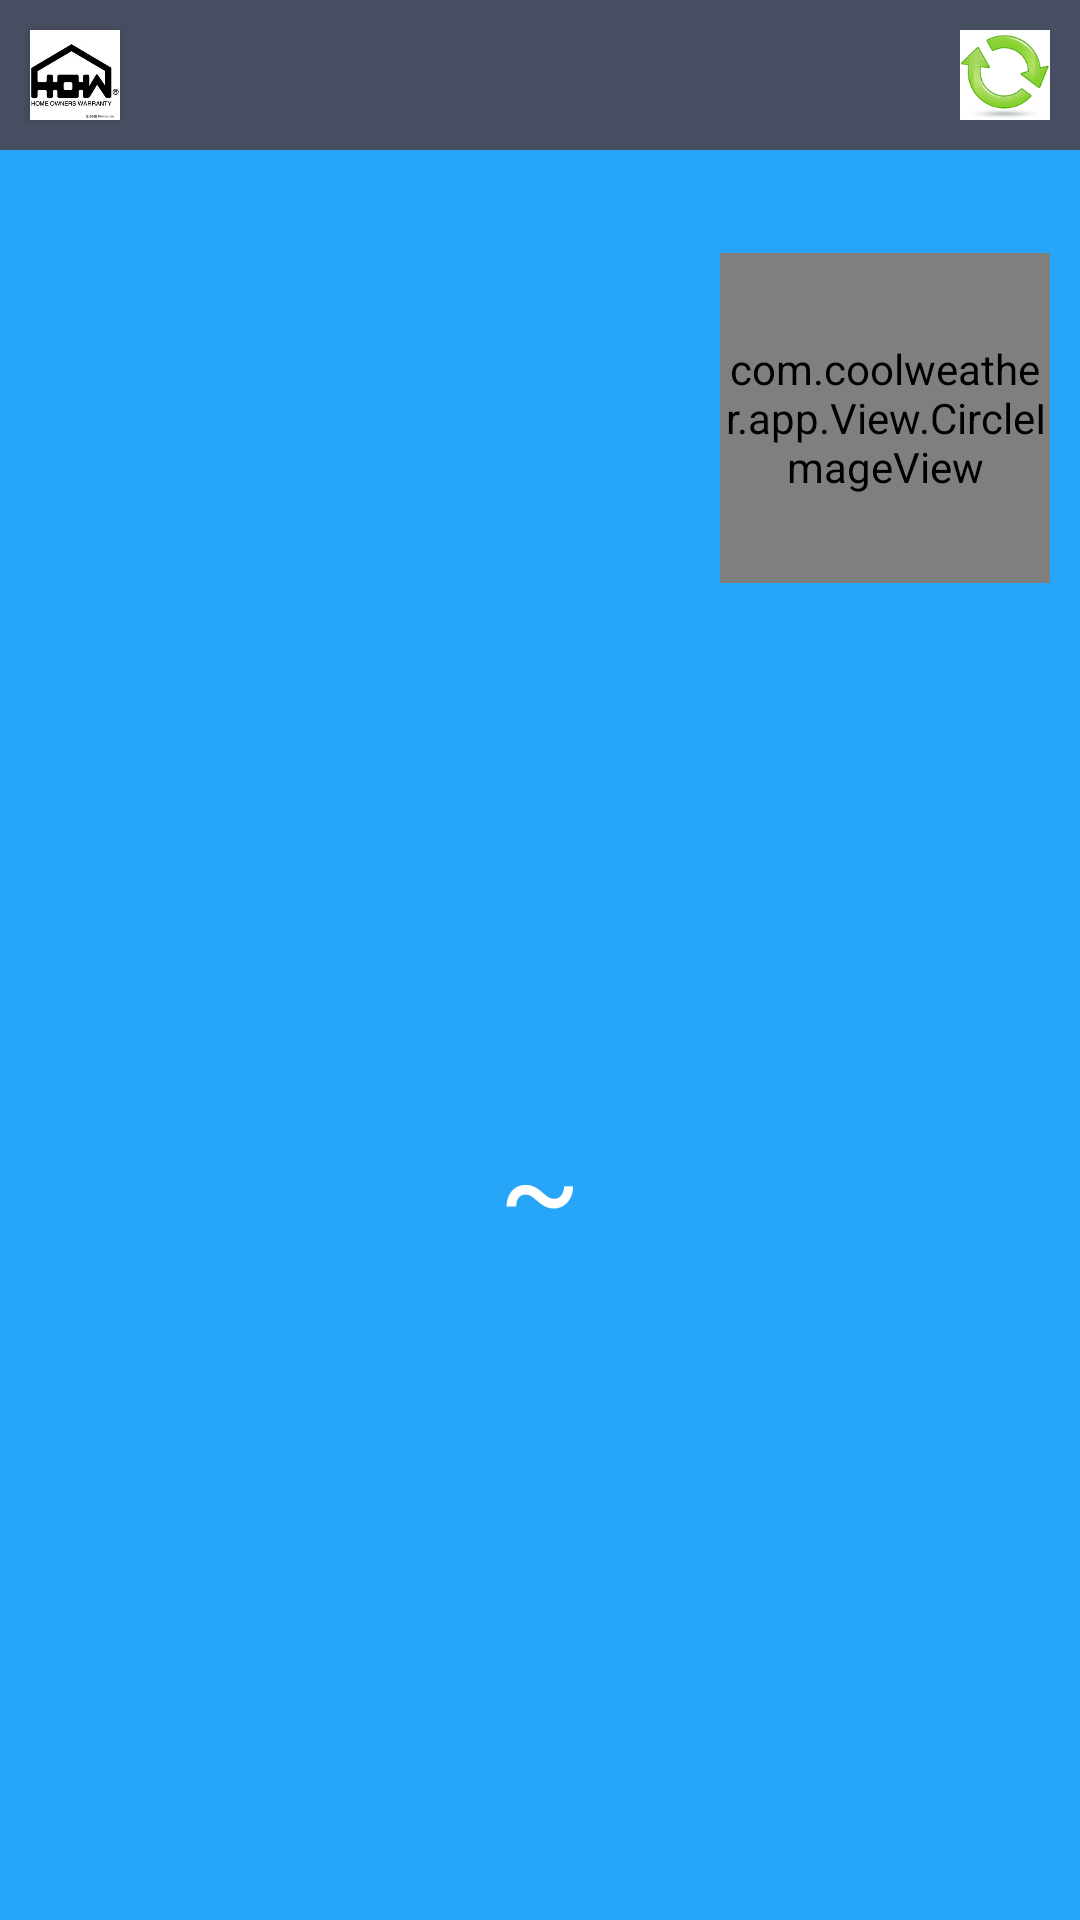

Locate icon controls on the screen. Image size 1080×1920, boxes as (x1, y1, x2, y2).
refresh: (960, 30, 1050, 120)
